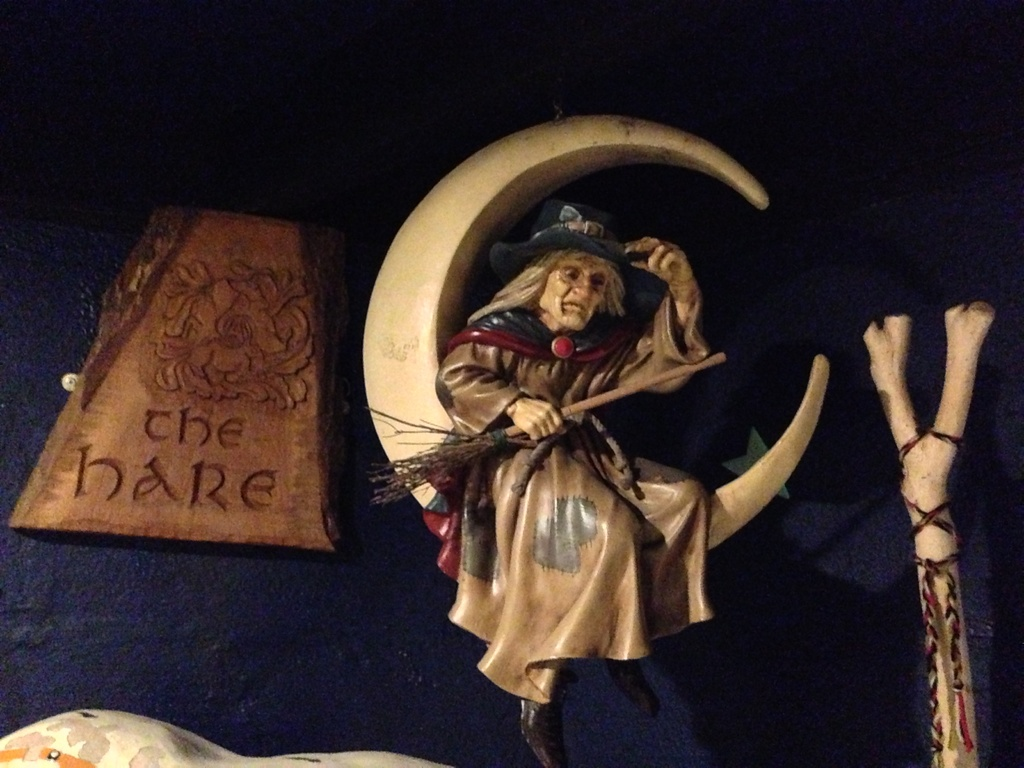Human_hand: (623, 237, 700, 300), (509, 392, 566, 443)
